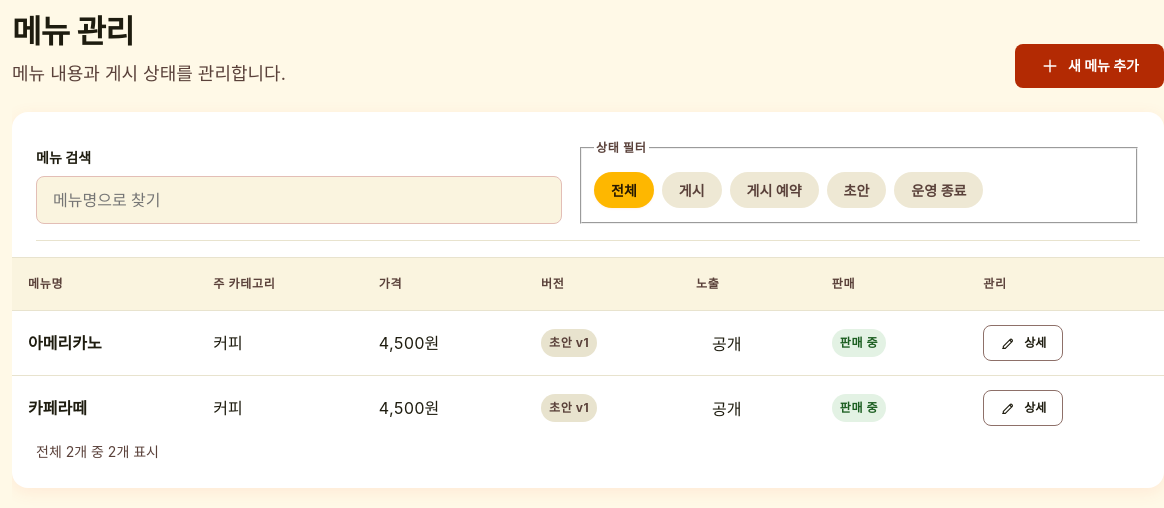
Test case: 메뉴 목록 화면 › 메뉴명 검색으로 목록을 좁힌다
This screenshot has width=1164, height=508.
Expected: the column heading "아메리카노" is shown, [12, 311, 197, 375]
Type "라떼" into the search field labelled "메뉴 검색" at [299, 200], box [36, 176, 562, 224]
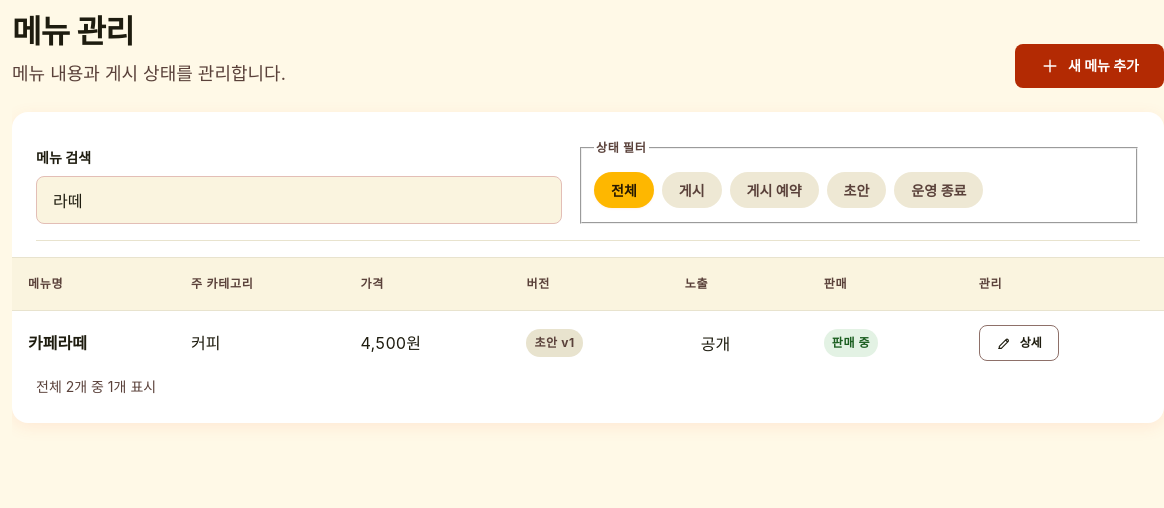
Expected: the column heading "카페라떼" is shown, [12, 311, 175, 375]
Result: the column heading "아메리카노" is gone
